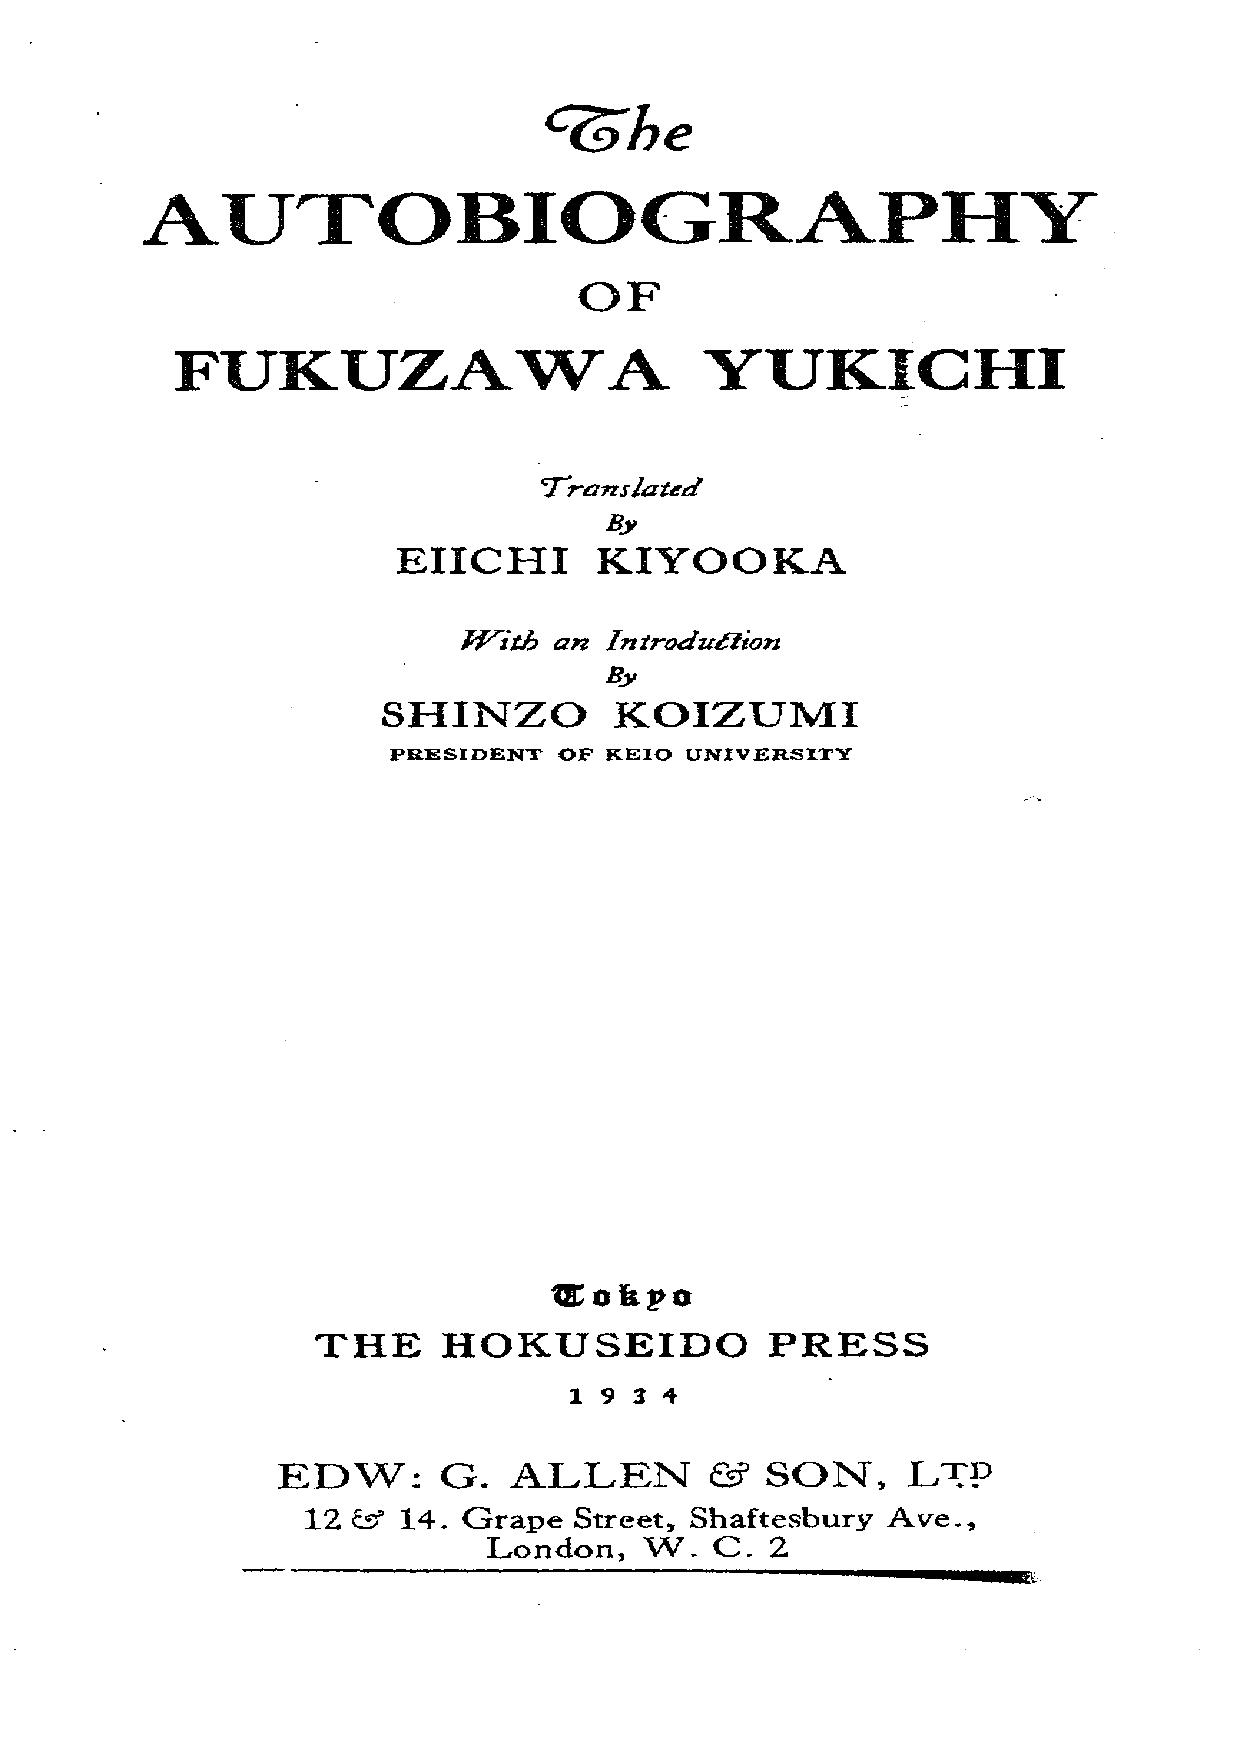author: (391, 511, 849, 578)
title: (138, 101, 1099, 392)
